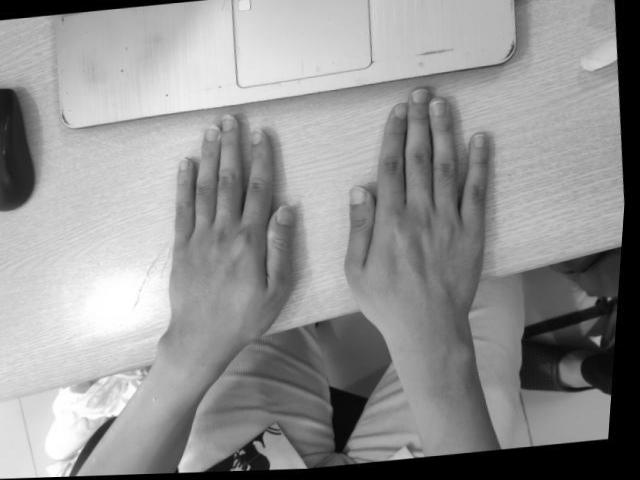not-gloved: (344, 90, 492, 318), (165, 120, 296, 332)
